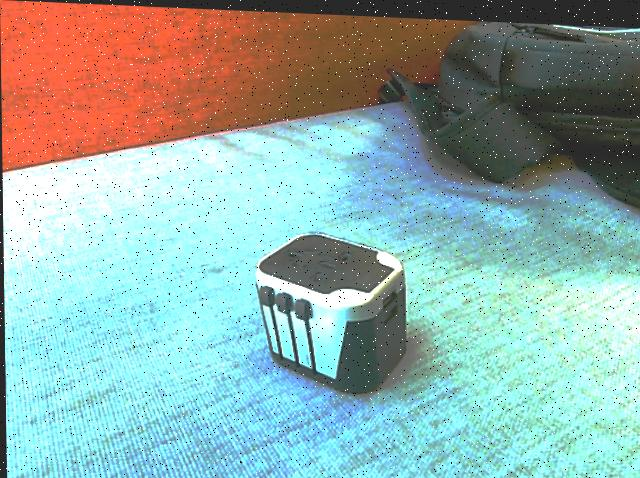adapter: (252, 226, 407, 393)
